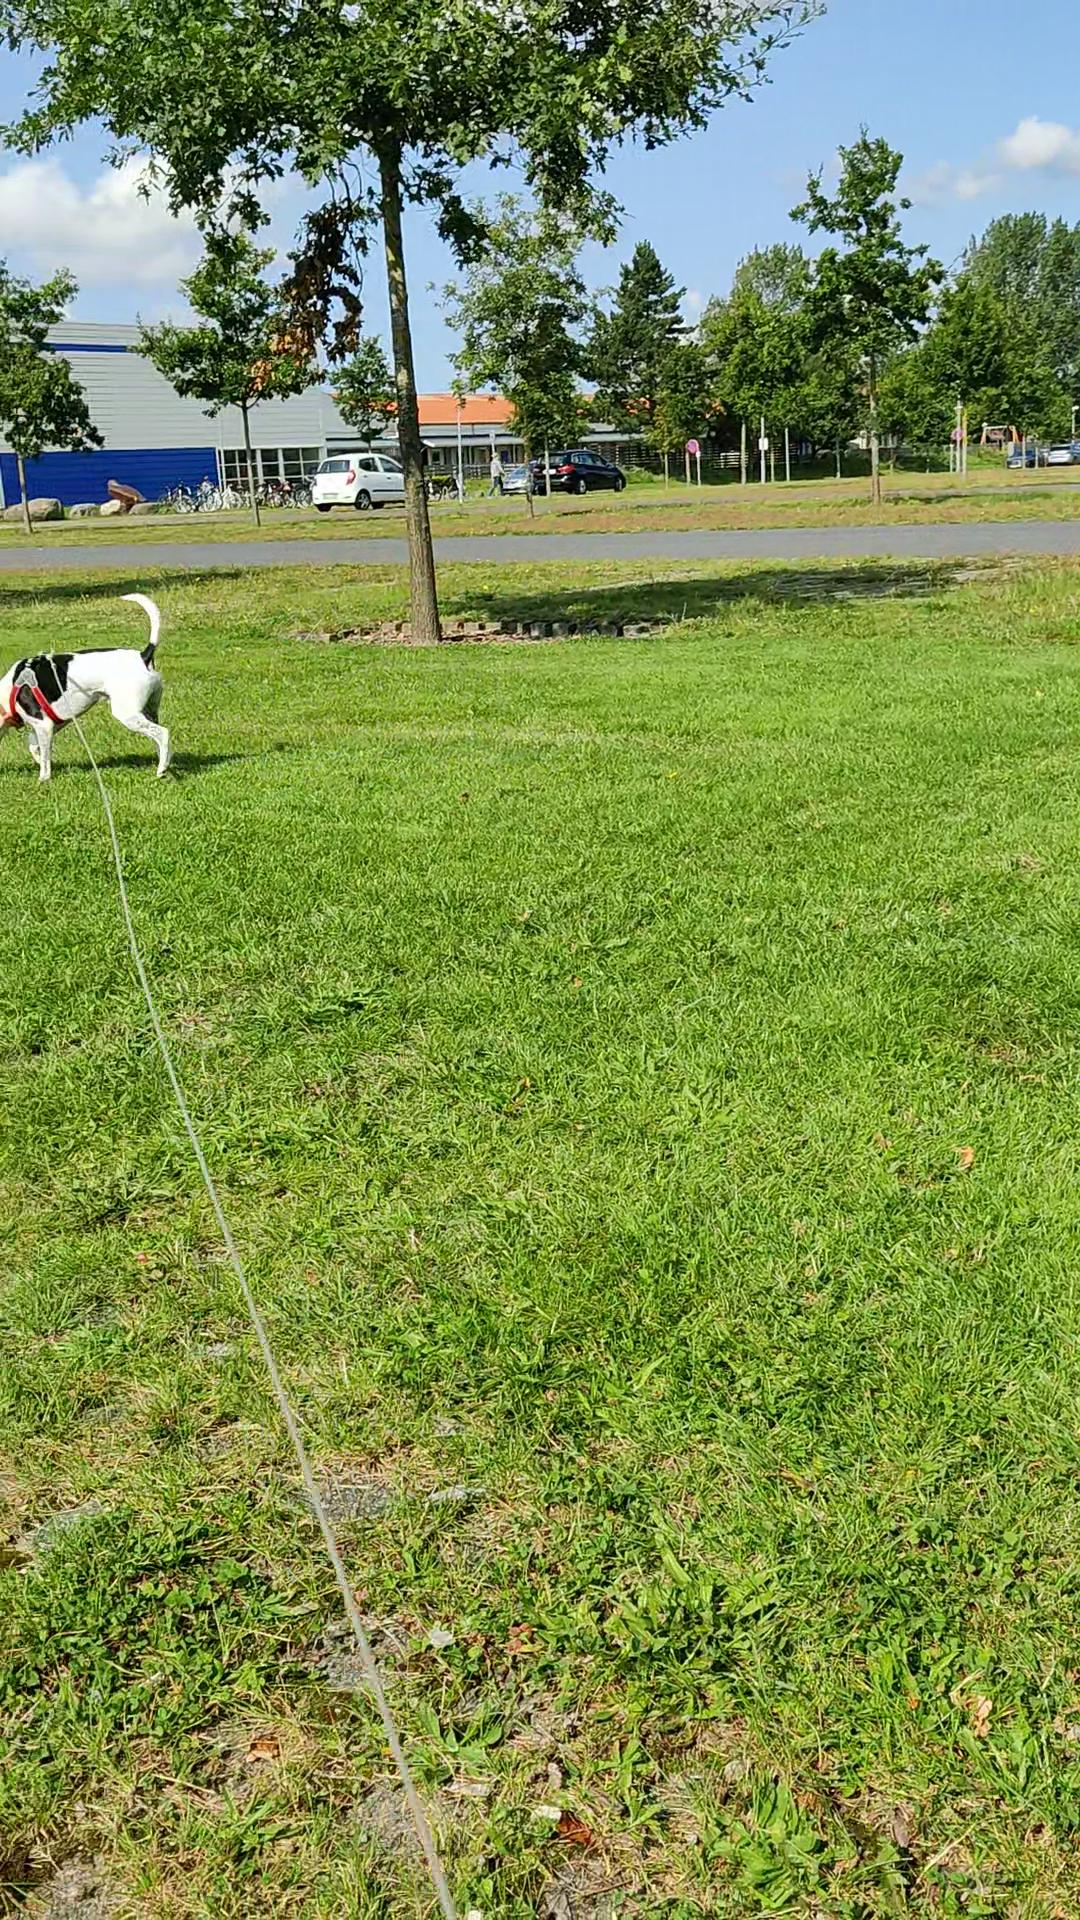Dog: (0, 579, 175, 791)
